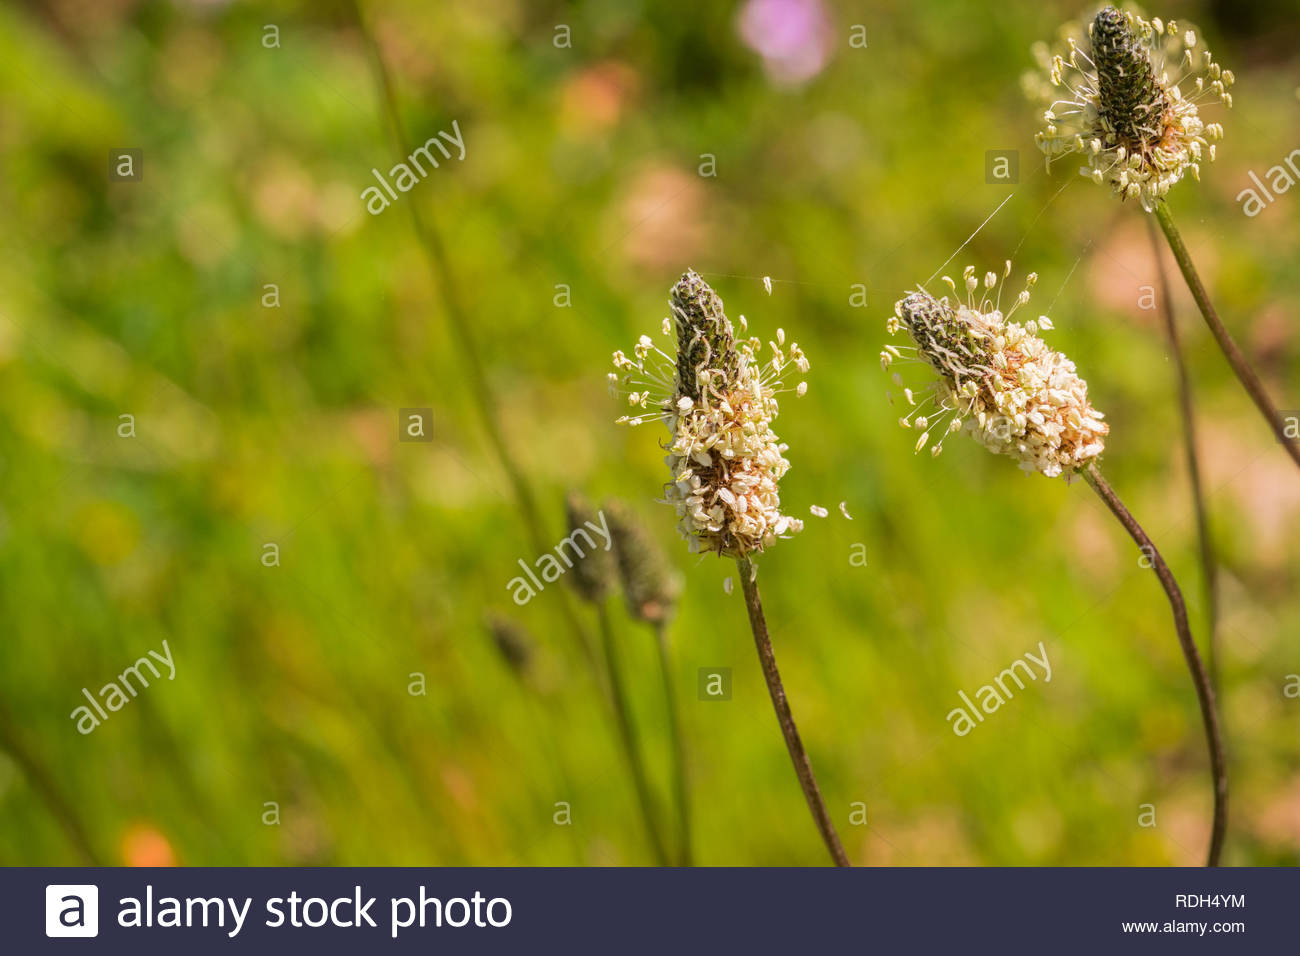buckhorn plantain: (879, 213, 1187, 664), (550, 237, 840, 677), (1045, 5, 1253, 359)
